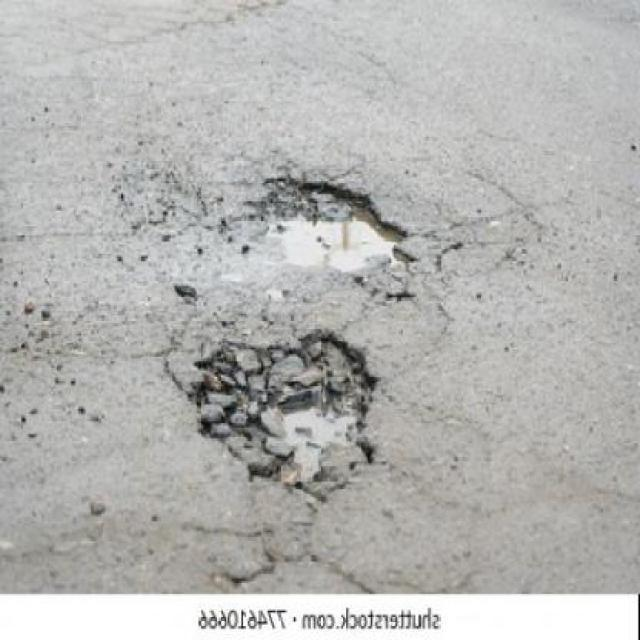Pothole: (166, 330, 376, 499), (246, 175, 412, 283)
